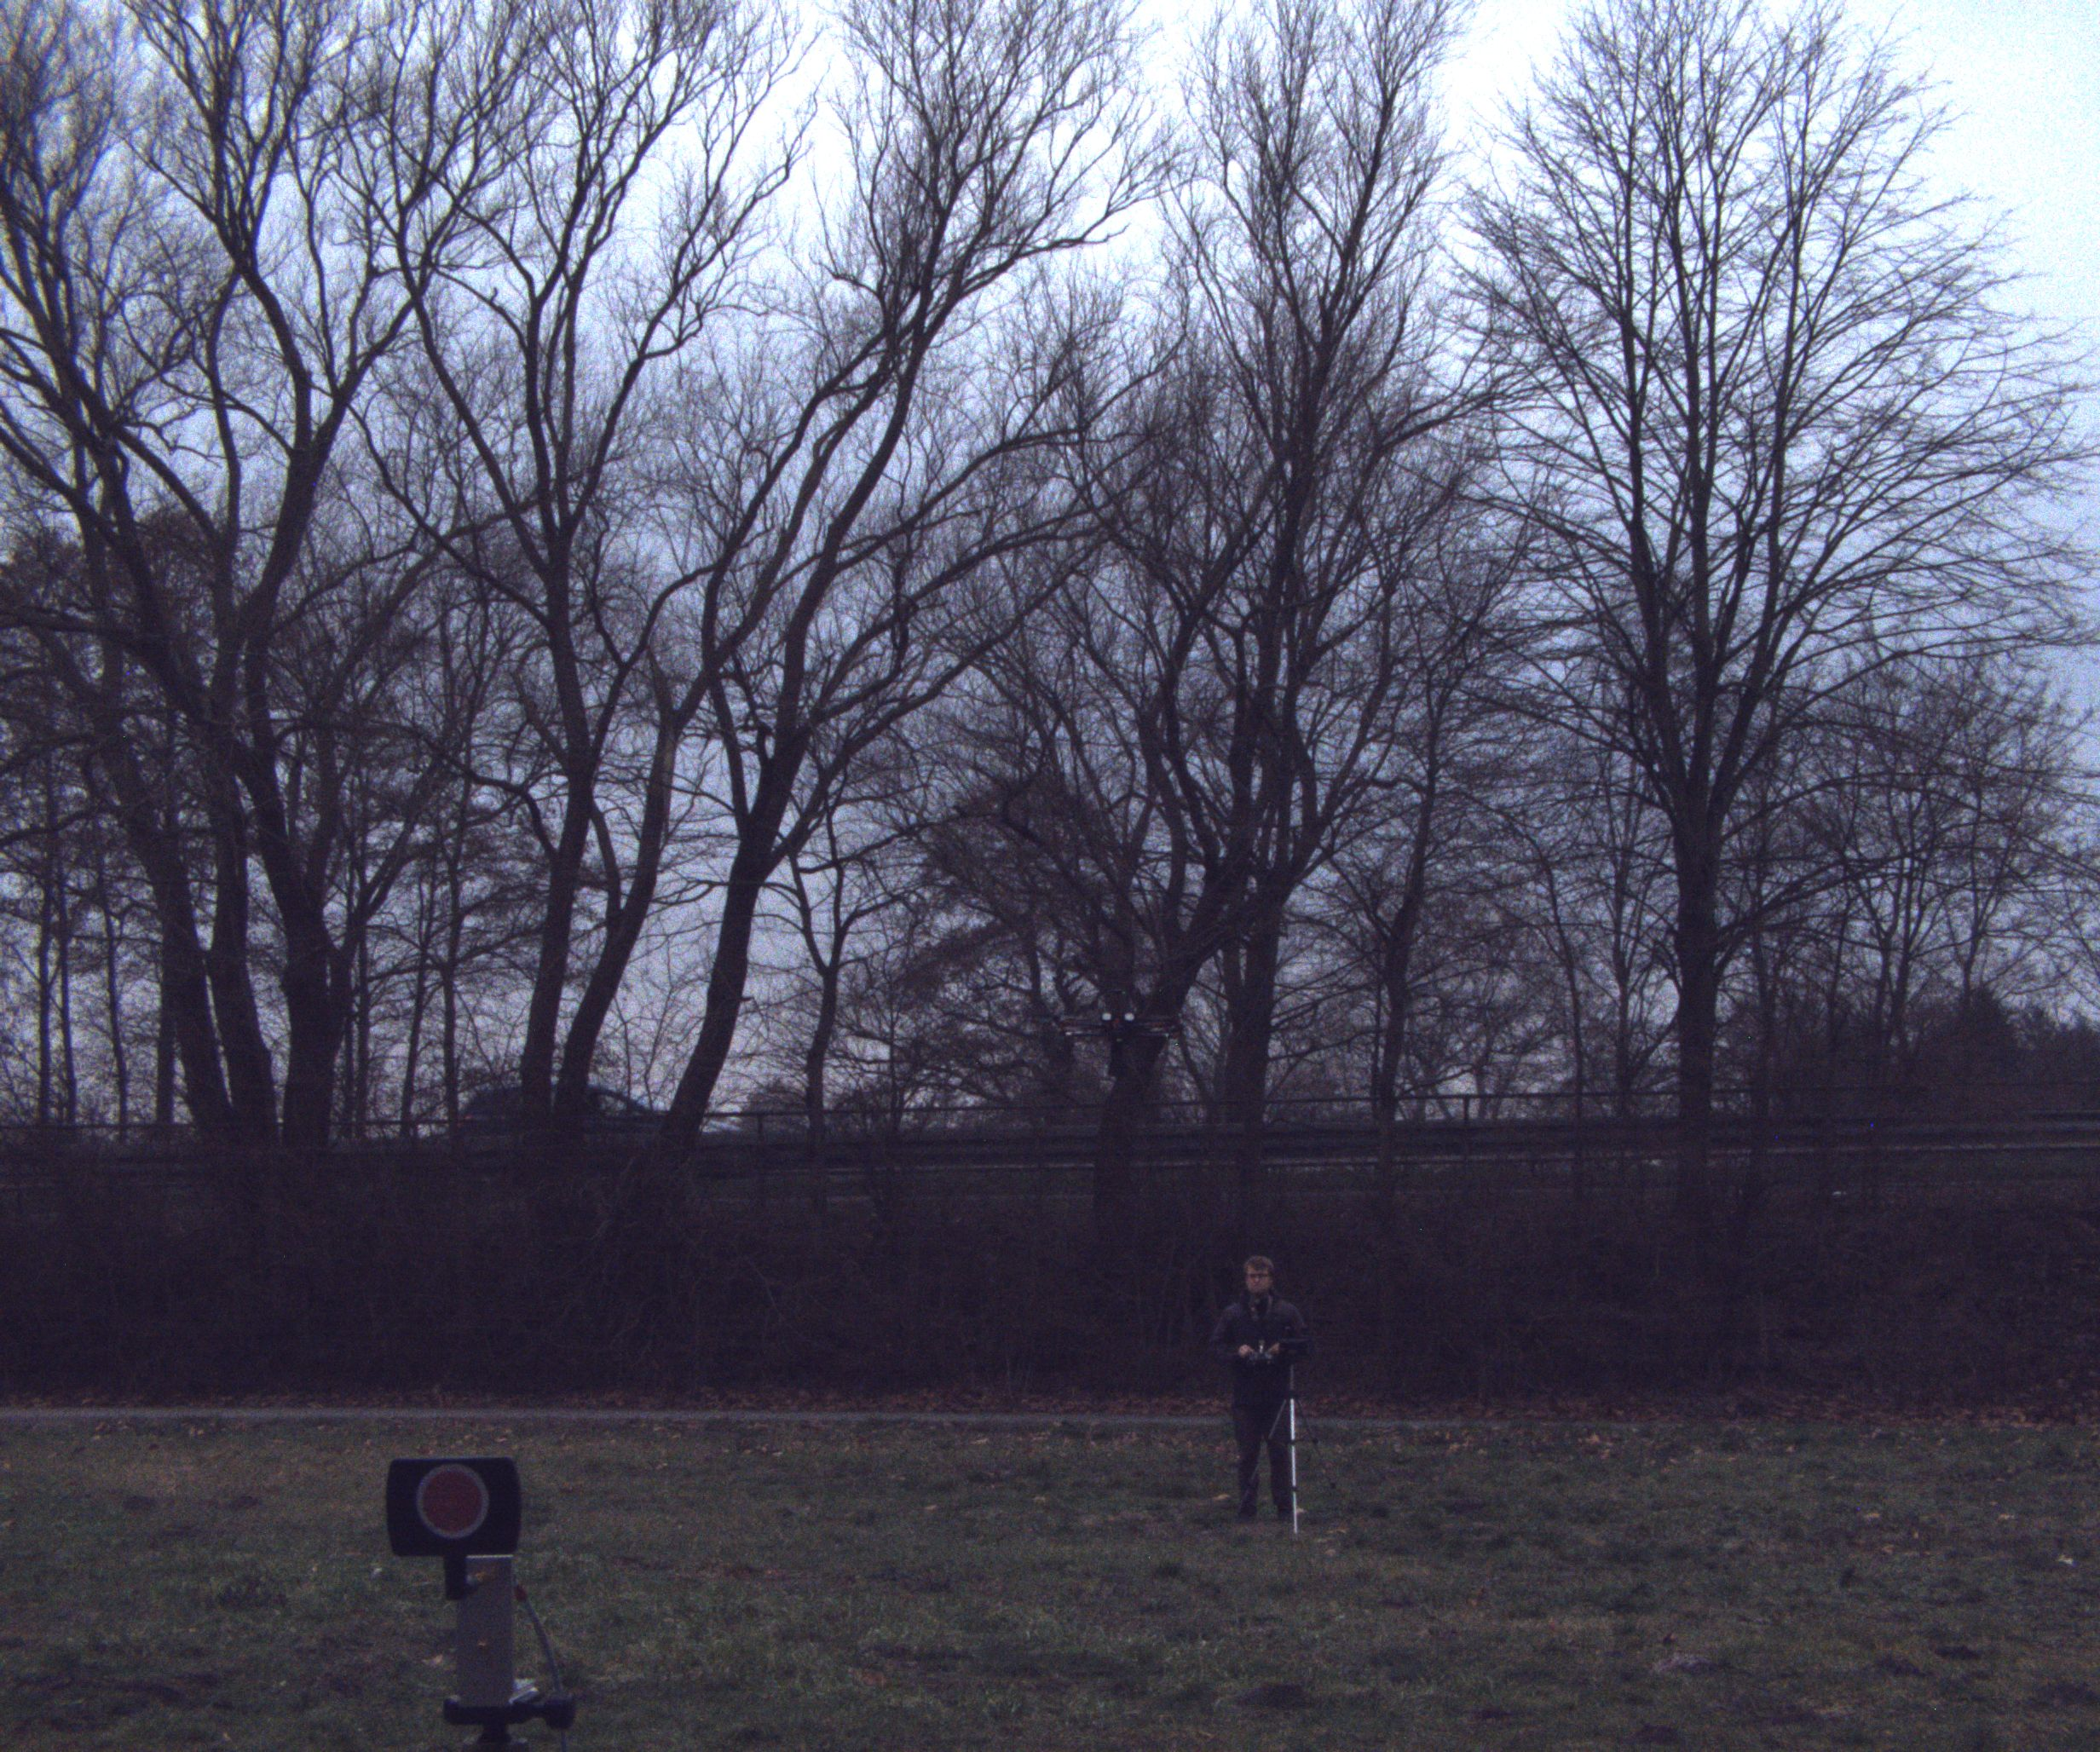Drohne: (1003, 971, 1244, 1090)
